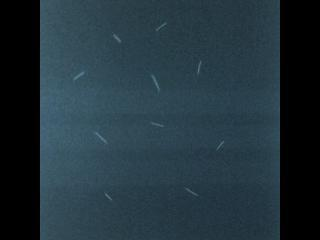scratch: (91, 127, 110, 146), (181, 185, 201, 200), (148, 71, 161, 94), (72, 69, 88, 84), (213, 137, 227, 154), (153, 20, 168, 34), (109, 30, 122, 45), (195, 59, 203, 80), (103, 189, 115, 202), (149, 120, 165, 128)
